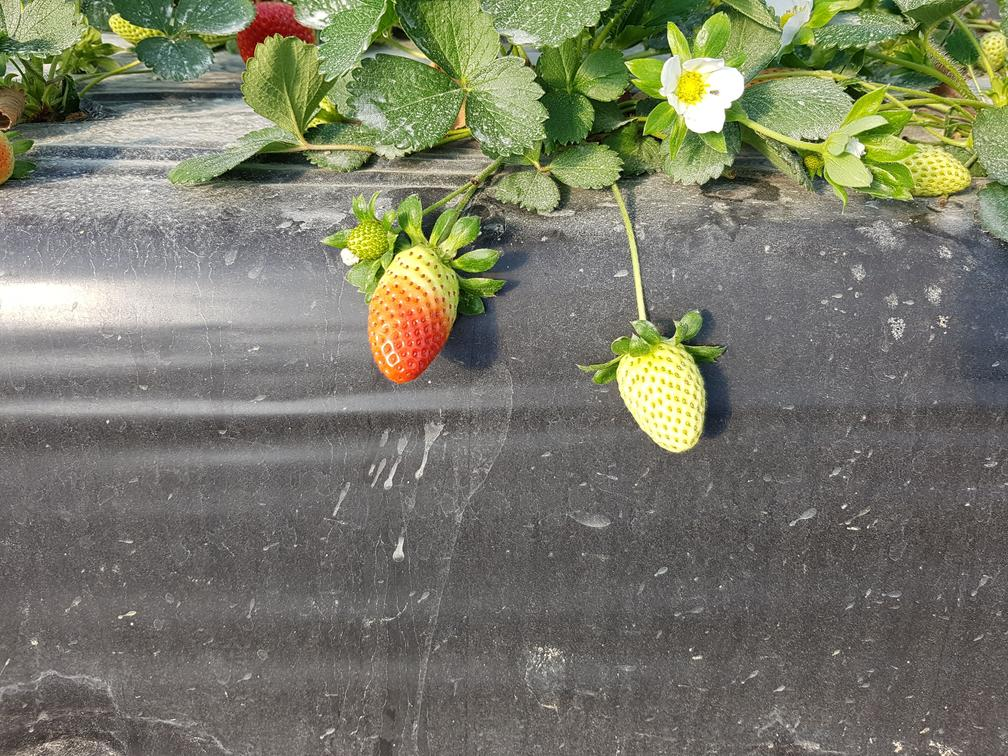Ripe: (366, 248, 461, 384)
Unripe: (614, 331, 722, 464), (904, 141, 984, 199), (338, 216, 398, 262)
